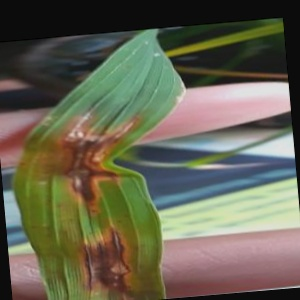Brown_Spot: (67, 218, 136, 296), (59, 112, 107, 166), (57, 160, 103, 210)
